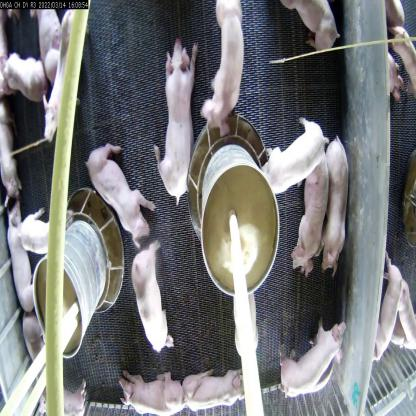Pig: (86, 136, 160, 243), (156, 40, 198, 220), (256, 113, 327, 200), (132, 236, 178, 365), (274, 321, 342, 406), (316, 121, 352, 270), (205, 0, 244, 130), (290, 132, 322, 267), (366, 244, 408, 345), (279, 0, 342, 61), (0, 202, 34, 313), (174, 360, 241, 414), (122, 371, 186, 415), (0, 57, 44, 114), (38, 1, 62, 86)
